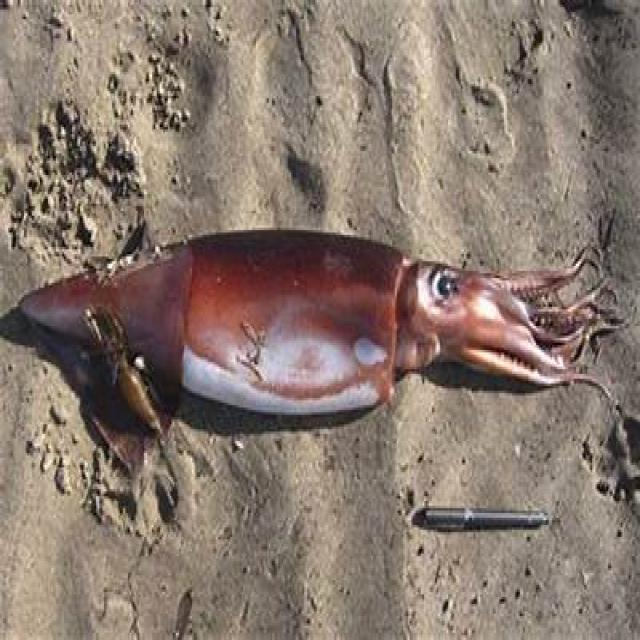SQUID: (0, 176, 640, 468)
